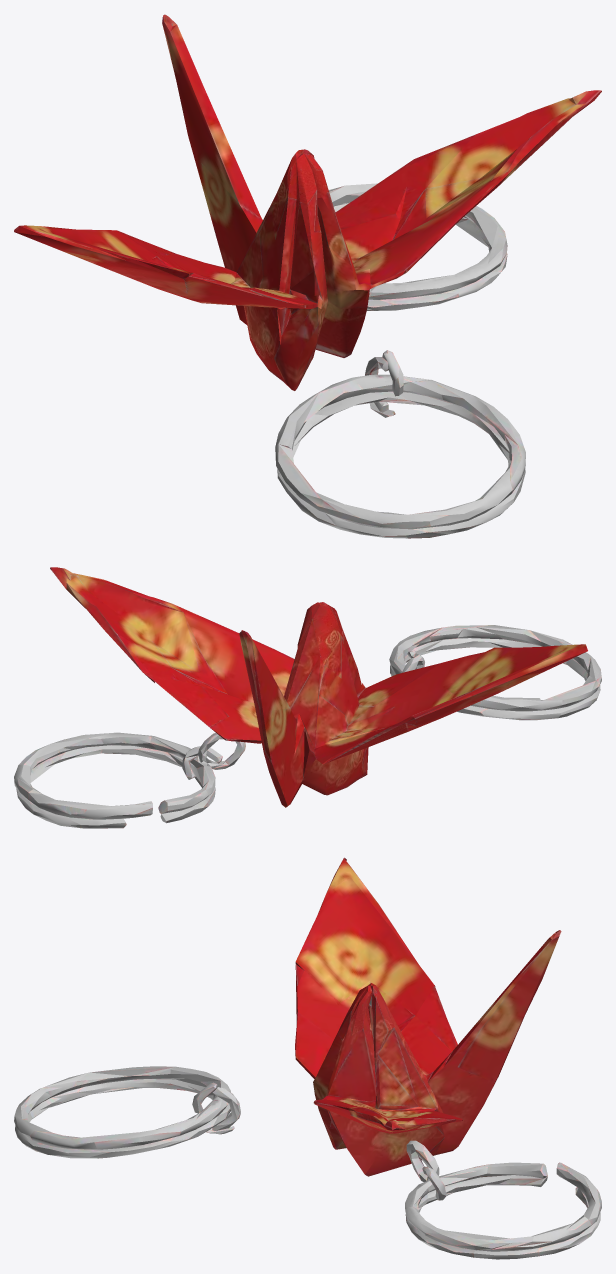
The picture shows the model from 3 angles, top to bottom: view 1: azimuth 30°, elevation 25°; view 2: azimuth 150°, elevation 25°; view 3: azimuth 270°, elevation 25°; orthographic projection. The views are drawn at different scales.
Bounding box in the file's own units: 0.9841 × 0.4173 × 1.
1 material, 1 textured.
